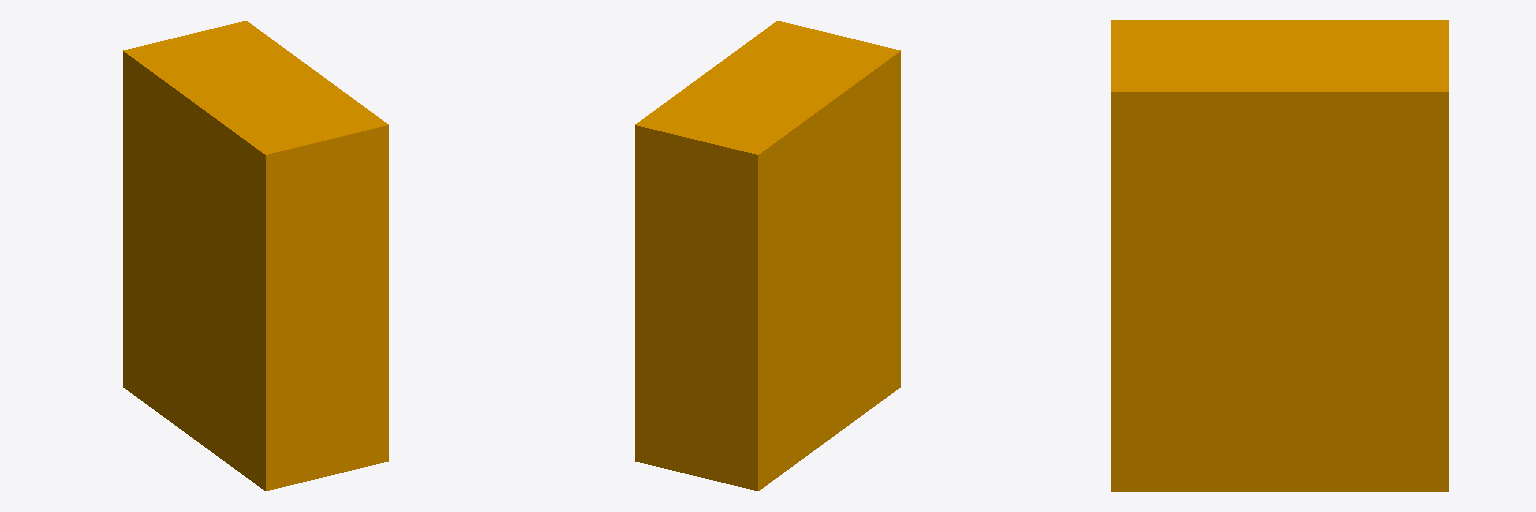
The robot description file, URDF, robot "taskspace":
<?xml version="1.0" ?>
<robot name="taskspace">
  <link name="taskbase">
    <inertial>
      <origin xyz="0 0 0.025"/>
      <mass value="20"/>
      <inertia ixx="10" ixy="0" ixz="0" iyy="10" iyz="0" izz="10"/>
    </inertial>
    <visual>
      <material name="blue"/>
      <origin xyz="0 0 0.65"/>
      <geometry>
        <box size="0.5 1 1.3"/>
      </geometry>
    </visual>
    <collision>
      <origin xyz="0 0 0.65"/>
      <geometry>
        <box size="0.5 1 1.3"/>
      </geometry>
    </collision>
  </link>

  <!-- Attach the camera_link to the top left corner of the box -->
  <joint name="apriltag_joint" type="fixed">
    <parent link="taskbase"/>
    <child link="apriltag_link"/>
    <origin xyz="-0.26 0.45 1.25" rpy="0 1.5707963 3.141592"/>
  </joint>

  <link name="apriltag_link">
    <visual>
      <geometry>
        <mesh filename="package://kuka_description/meshes/tag36_11_00000.dae" scale="1 1 1"/>
      </geometry>
      <material name="">
        <color rgba="1 0 0 1"/> <!-- 빨간색 -->
      </material>
    </visual>
  </link>

  <!-- Add Gazebo tag -->
  <gazebo reference="apriltag_link">
  </gazebo>

  <gazebo reference="taskspace">
    <material>Gazebo/Gray</material>
    <turnGravityOff>false</turnGravityOff>
    <selfCollide>true</selfCollide>
    <!-- Set friction and physical properties -->
    <mu1>100.0</mu1>
    <mu2>100.0</mu2>
    <kp>1000000.0</kp>
    <kd>1.0</kd>
  </gazebo>
</robot>

--- Facts derived from the render (not from the file) ---
3 views of the same robot in one strip: view 1: azimuth 30°, elevation 25°; view 2: azimuth 150°, elevation 25°; view 3: azimuth 270°, elevation 25° (orthographic).
Model taskspace with 2 links and 1 joints (1 fixed), rooted at taskbase, posed every joint at zero.
Links seen in each view (by area): view 1: taskbase; view 2: taskbase; view 3: taskbase.
Link boxes in pixels (left/top/right/bottom): taskbase: left=123, top=21, right=388, bottom=490; taskbase: left=635, top=21, right=900, bottom=490; taskbase: left=1111, top=20, right=1448, bottom=491.
Size in the robot's own frame: 0.5 by 1 by 1.3 metres.
Meshes: 1 distinct files referenced, 0 mesh visuals loaded (none loaded); not drawn: 1 (reference not matched to a file when rendering).